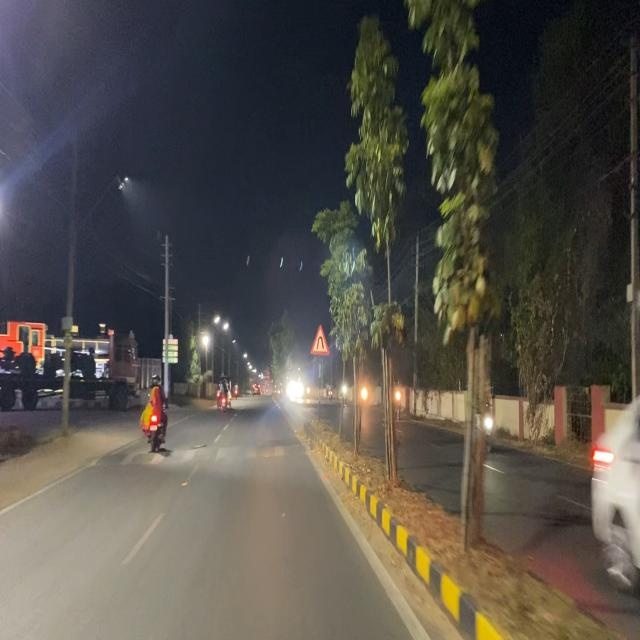bien_nguy_hiem: (311, 323, 329, 358)
